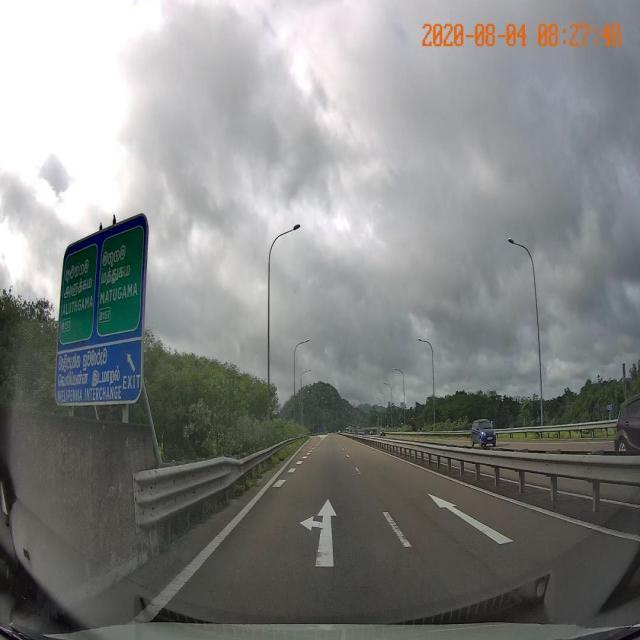Strelka vpered: (425, 491, 516, 547)
Strelka vpered - vlevo: (296, 496, 338, 569)
